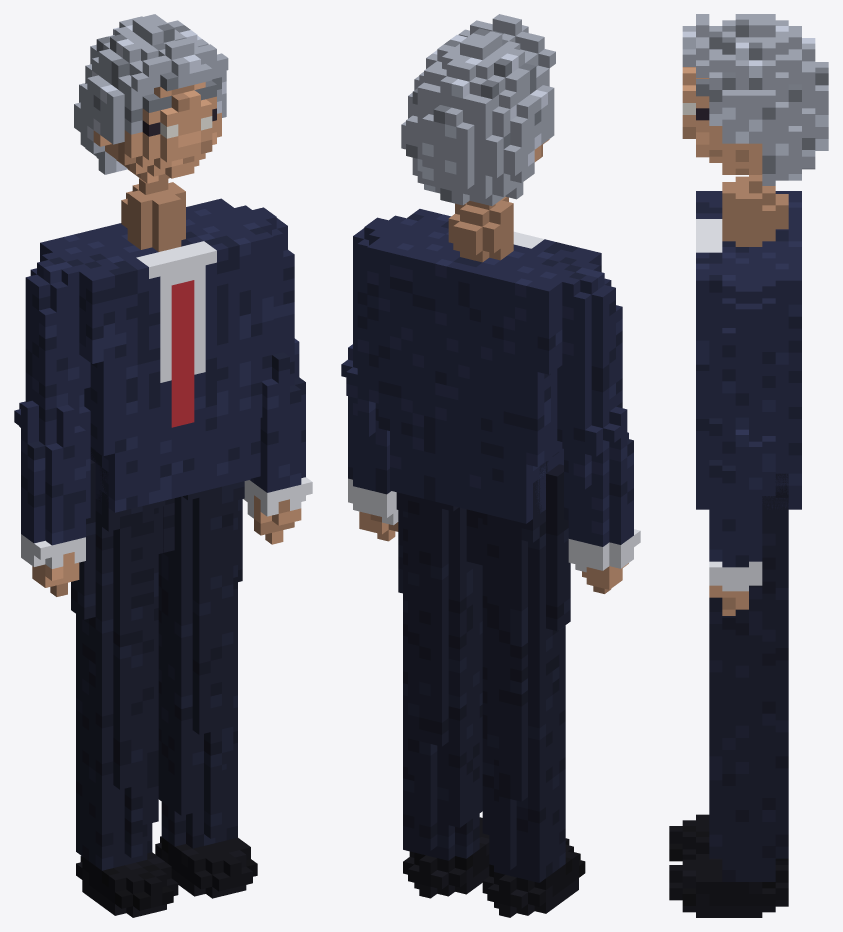
File: host.glb
The picture shows the model from 3 angles, left to right: view 1: azimuth 30°, elevation 25°; view 2: azimuth 150°, elevation 25°; view 3: azimuth 270°, elevation 25°; orthographic projection.
Parts seen in each view (by area): view 1: vox_host.torso, vox_host.head, vox_host.shinR, vox_host.armR, vox_host.shinL, vox_host.legR, vox_host.armL, vox_host.legL; view 2: vox_host.torso, vox_host.head, vox_host.armR, vox_host.shinR, vox_host.shinL, vox_host.legR, vox_host.legL, vox_host.armL; view 3: vox_host.head, vox_host.shinL, vox_host.armL, vox_host.torso, vox_host.legL, vox_host.shinR.
Part boxes in pixels (x1,y1,x2,y2): vox_host.torso: (40,198,273,512); vox_host.head: (74,14,228,251); vox_host.shinR: (76,650,178,917); vox_host.armR: (14,252,90,596); vox_host.shinL: (155,633,257,898); vox_host.legR: (71,447,165,670); vox_host.armL: (230,205,312,544); vox_host.legL: (158,481,244,651); vox_host.torso: (367,209,601,523); vox_host.head: (401,14,555,262); vox_host.armR: (557,262,640,593); vox_host.shinR: (482,662,585,917); vox_host.shinL: (403,645,489,898); vox_host.legR: (476,461,570,682); vox_host.legL: (396,492,482,663); vox_host.armL: (341,215,410,541); vox_host.head: (682,14,828,246); vox_host.shinL: (669,672,788,917); vox_host.armL: (709,275,775,615); vox_host.torso: (696,191,801,509); vox_host.legL: (709,473,788,677); vox_host.shinR: (669,814,788,864).
Size of the model in its own units: 0.6 by 1.8 by 0.3.
